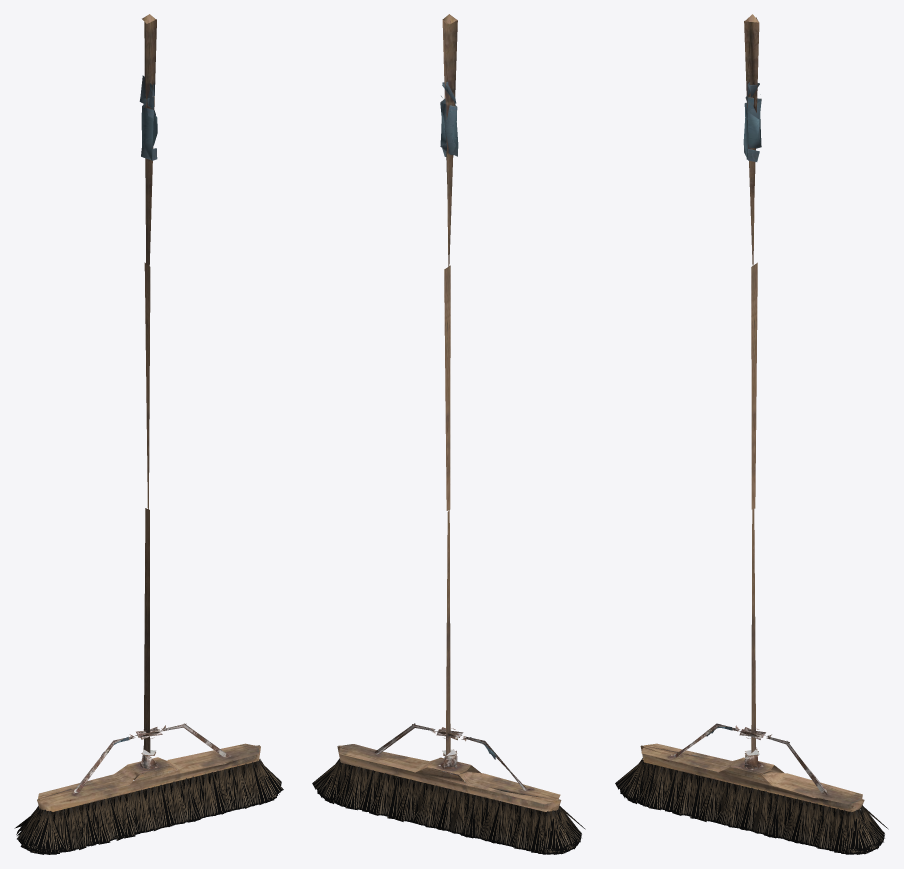
Rendered from isl_broom.glb.
3 views of the same model, side by side, from view 1: azimuth 30°, elevation 25°; view 2: azimuth 150°, elevation 25°; view 3: azimuth 330°, elevation 25° (orthographic).
Parts seen in each view (by area): view 1: wooden_broom_bristles; view 2: wooden_broom_bristles; view 3: wooden_broom_bristles.
Part boxes in pixels (<box>): wooden_broom_bristles: <box>14,14,283,854</box>; wooden_broom_bristles: <box>312,14,585,854</box>; wooden_broom_bristles: <box>615,14,888,854</box>.
Size of the model in its own units: 0.4875 by 1.46 by 0.1125.
Materials: 2 (2 with a texture image).
